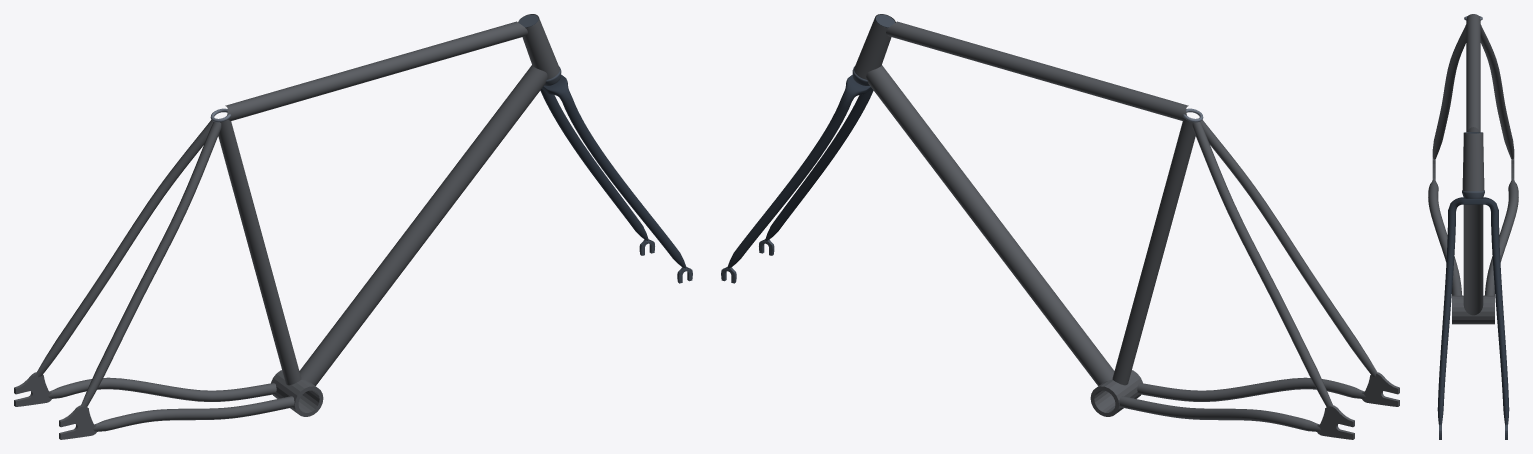
The model's file is wabi-prism-47.glb.
3 views of the same model, side by side, from view 1: azimuth 30°, elevation 25°; view 2: azimuth 150°, elevation 25°; view 3: azimuth 270°, elevation 25° (orthographic). The views are drawn at different scales.
Parts seen in each view (by area): view 1: paint_down, paint_top, paint_seat, paint_seatstay_1, paint_seatstay_-1, paint_chainstay_-1, paint_chainstay_1, fork_blade_1, fork_blade_-1, paint_bottom_bracket, paint_head, rear_dropout_1 (+1 smaller); view 2: paint_down, paint_top, paint_seat, paint_seatstay_-1, paint_seatstay_1, paint_chainstay_1, paint_chainstay_-1, fork_blade_-1, fork_blade_1, paint_bottom_bracket, paint_head, rear_dropout_-1 (+1 smaller); view 3: paint_down, paint_top, fork_blade_1, fork_blade_-1, paint_head, paint_seatstay_-1, paint_seatstay_1, paint_chainstay_-1, paint_chainstay_1, paint_bottom_bracket, fork_crown, fork_headset_lower.
Part boxes in pixels (bbox=[...]): paint_down: bbox=[299, 65, 547, 385]; paint_top: bbox=[225, 21, 527, 120]; paint_seat: bbox=[218, 119, 301, 385]; paint_seatstay_1: bbox=[81, 122, 221, 406]; paint_seatstay_-1: bbox=[36, 120, 213, 377]; paint_chainstay_-1: bbox=[48, 377, 276, 401]; paint_chainstay_1: bbox=[93, 396, 294, 431]; fork_blade_1: bbox=[562, 98, 686, 268]; fork_blade_-1: bbox=[540, 89, 648, 240]; paint_bottom_bracket: bbox=[271, 370, 323, 416]; paint_head: bbox=[518, 14, 559, 79]; rear_dropout_1: bbox=[59, 405, 96, 439]; paint_down: bbox=[866, 65, 1114, 385]; paint_top: bbox=[886, 21, 1188, 120]; paint_seat: bbox=[1112, 119, 1195, 385]; paint_seatstay_-1: bbox=[1192, 122, 1333, 406]; paint_seatstay_1: bbox=[1200, 120, 1377, 377]; paint_chainstay_1: bbox=[1137, 377, 1365, 401]; paint_chainstay_-1: bbox=[1119, 396, 1320, 431]; fork_blade_-1: bbox=[727, 98, 851, 268]; fork_blade_1: bbox=[765, 89, 873, 240]; paint_bottom_bracket: bbox=[1090, 370, 1142, 416]; paint_head: bbox=[854, 14, 895, 79]; rear_dropout_-1: bbox=[1317, 405, 1354, 439]; paint_down: bbox=[1463, 204, 1483, 315]; paint_top: bbox=[1466, 14, 1480, 131]; fork_blade_1: bbox=[1437, 210, 1455, 424]; fork_blade_-1: bbox=[1491, 210, 1509, 424]; paint_head: bbox=[1462, 132, 1484, 191]; paint_seatstay_-1: bbox=[1480, 24, 1514, 159]; paint_seatstay_1: bbox=[1432, 24, 1466, 159]; paint_chainstay_-1: bbox=[1484, 179, 1518, 295]; paint_chainstay_1: bbox=[1428, 179, 1462, 295]; paint_bottom_bracket: bbox=[1452, 295, 1494, 324]; fork_crown: bbox=[1448, 197, 1498, 210]; fork_headset_lower: bbox=[1462, 190, 1484, 198].
Bounding box in the file's own units: 1.02 × 0.5123 × 0.1439.
